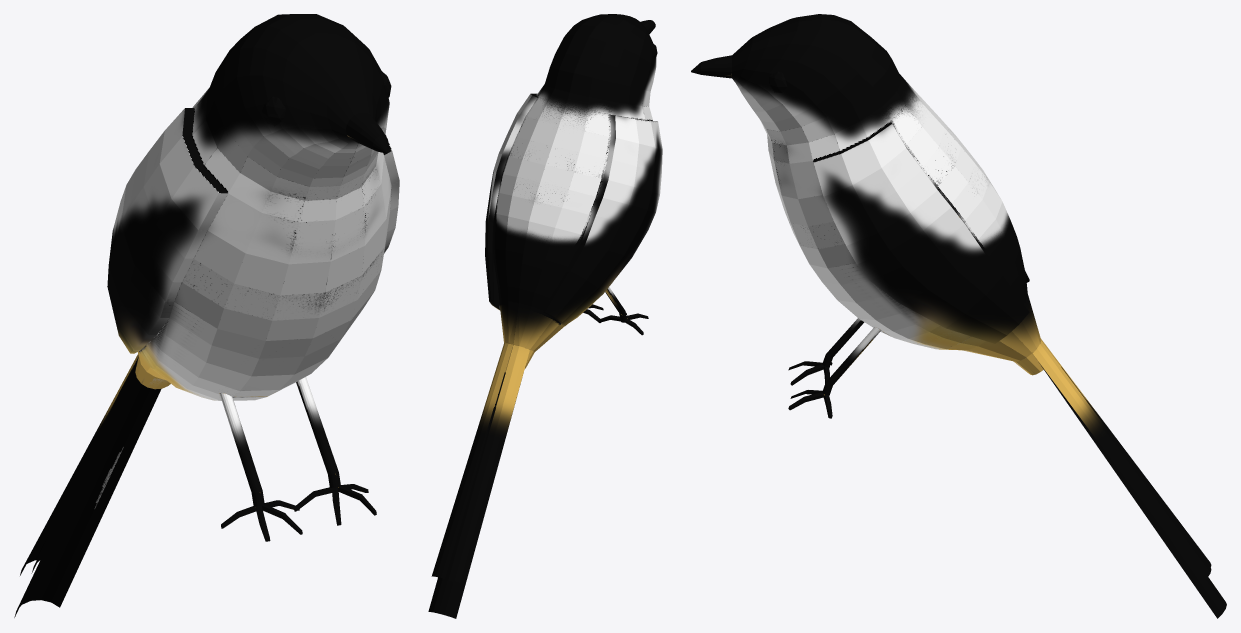
The model's file is Color_longtailed.fbx.
3 views of the same model, side by side, from view 1: azimuth 30°, elevation 25°; view 2: azimuth 150°, elevation 25°; view 3: azimuth 270°, elevation 25° (orthographic). The views are drawn at different scales.
Visible parts, largest first — view 1: Cylinder; view 2: Cylinder; view 3: Cylinder.
Boxes of the visible parts, x1,y1,x2,y2 form: Cylinder: (14, 14, 399, 617); Cylinder: (428, 14, 662, 618); Cylinder: (691, 14, 1226, 618).
Bounding box in the file's own units: 568 × 1775 × 1458.
